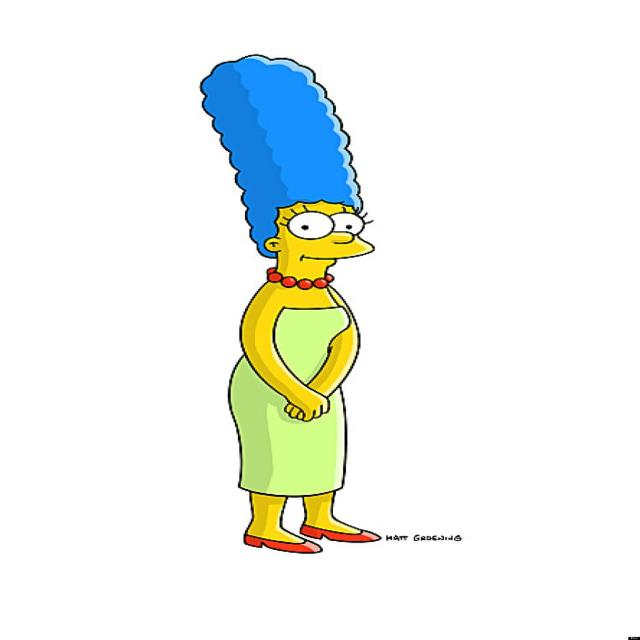Marge Simpson: (195, 51, 379, 292)
